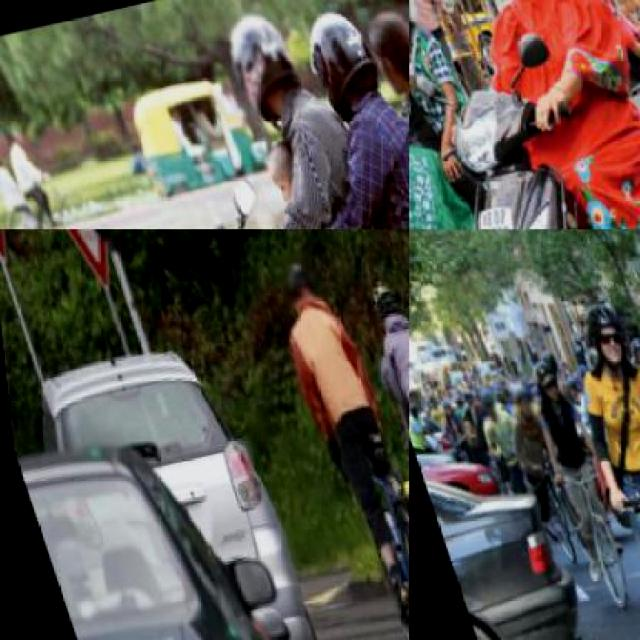With Helmet: (206, 0, 311, 123), (290, 4, 387, 114), (569, 292, 633, 380), (266, 247, 325, 310), (355, 268, 408, 334), (516, 352, 564, 410), (498, 376, 534, 422), (467, 384, 496, 422)
Without Helmet: (360, 0, 408, 106)
